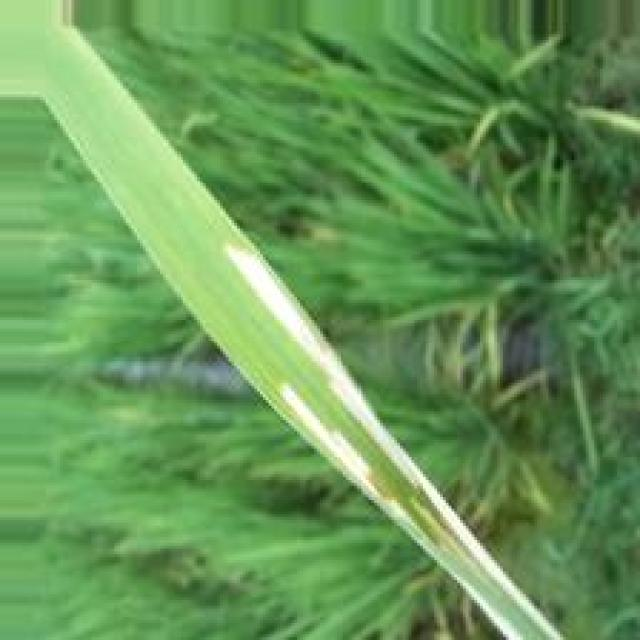Rice_Hispa: (232, 247, 561, 640)
